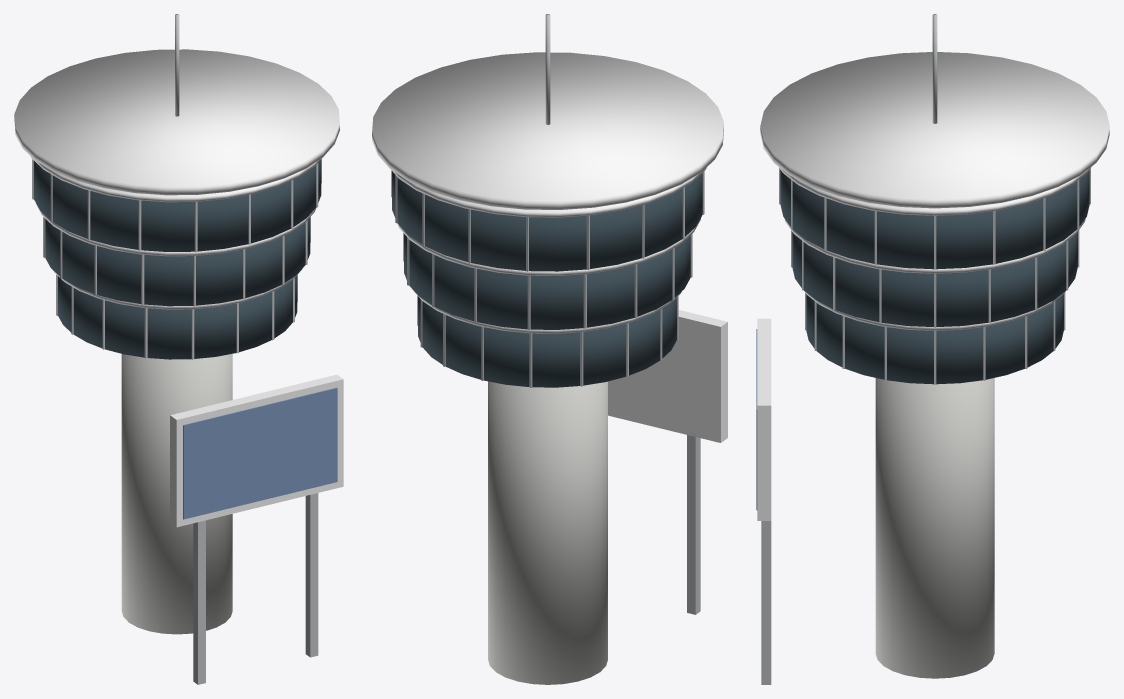
Rendered from timing_tower.glb.
3 renders of one model, left to right at view 1: azimuth 30°, elevation 25°; view 2: azimuth 150°, elevation 25°; view 3: azimuth 270°, elevation 25°, orthographic. The views are drawn at different scales.
Visible parts, largest first — view 1: Paint_Merged, Glass_Merged, Concrete_Merged, Screen_Merged, Steel_Merged; view 2: Paint_Merged, Glass_Merged, Concrete_Merged, Steel_Merged; view 3: Paint_Merged, Glass_Merged, Concrete_Merged, Steel_Merged.
Boxes of the visible parts, x1,y1,x2,y2 form: Paint_Merged: (14,49,343,527); Glass_Merged: (34,159,321,359); Concrete_Merged: (121,353,232,634); Screen_Merged: (183,387,337,519); Steel_Merged: (32,14,321,684); Paint_Merged: (372,52,727,442); Glass_Merged: (392,171,702,387); Concrete_Merged: (488,381,607,684); Steel_Merged: (391,14,704,614); Paint_Merged: (757,52,1109,520); Glass_Merged: (780,170,1089,384); Concrete_Merged: (875,378,994,678); Steel_Merged: (761,14,1090,684).
Bounding box in the file's own units: 17.6 × 35.5 × 17.81.
